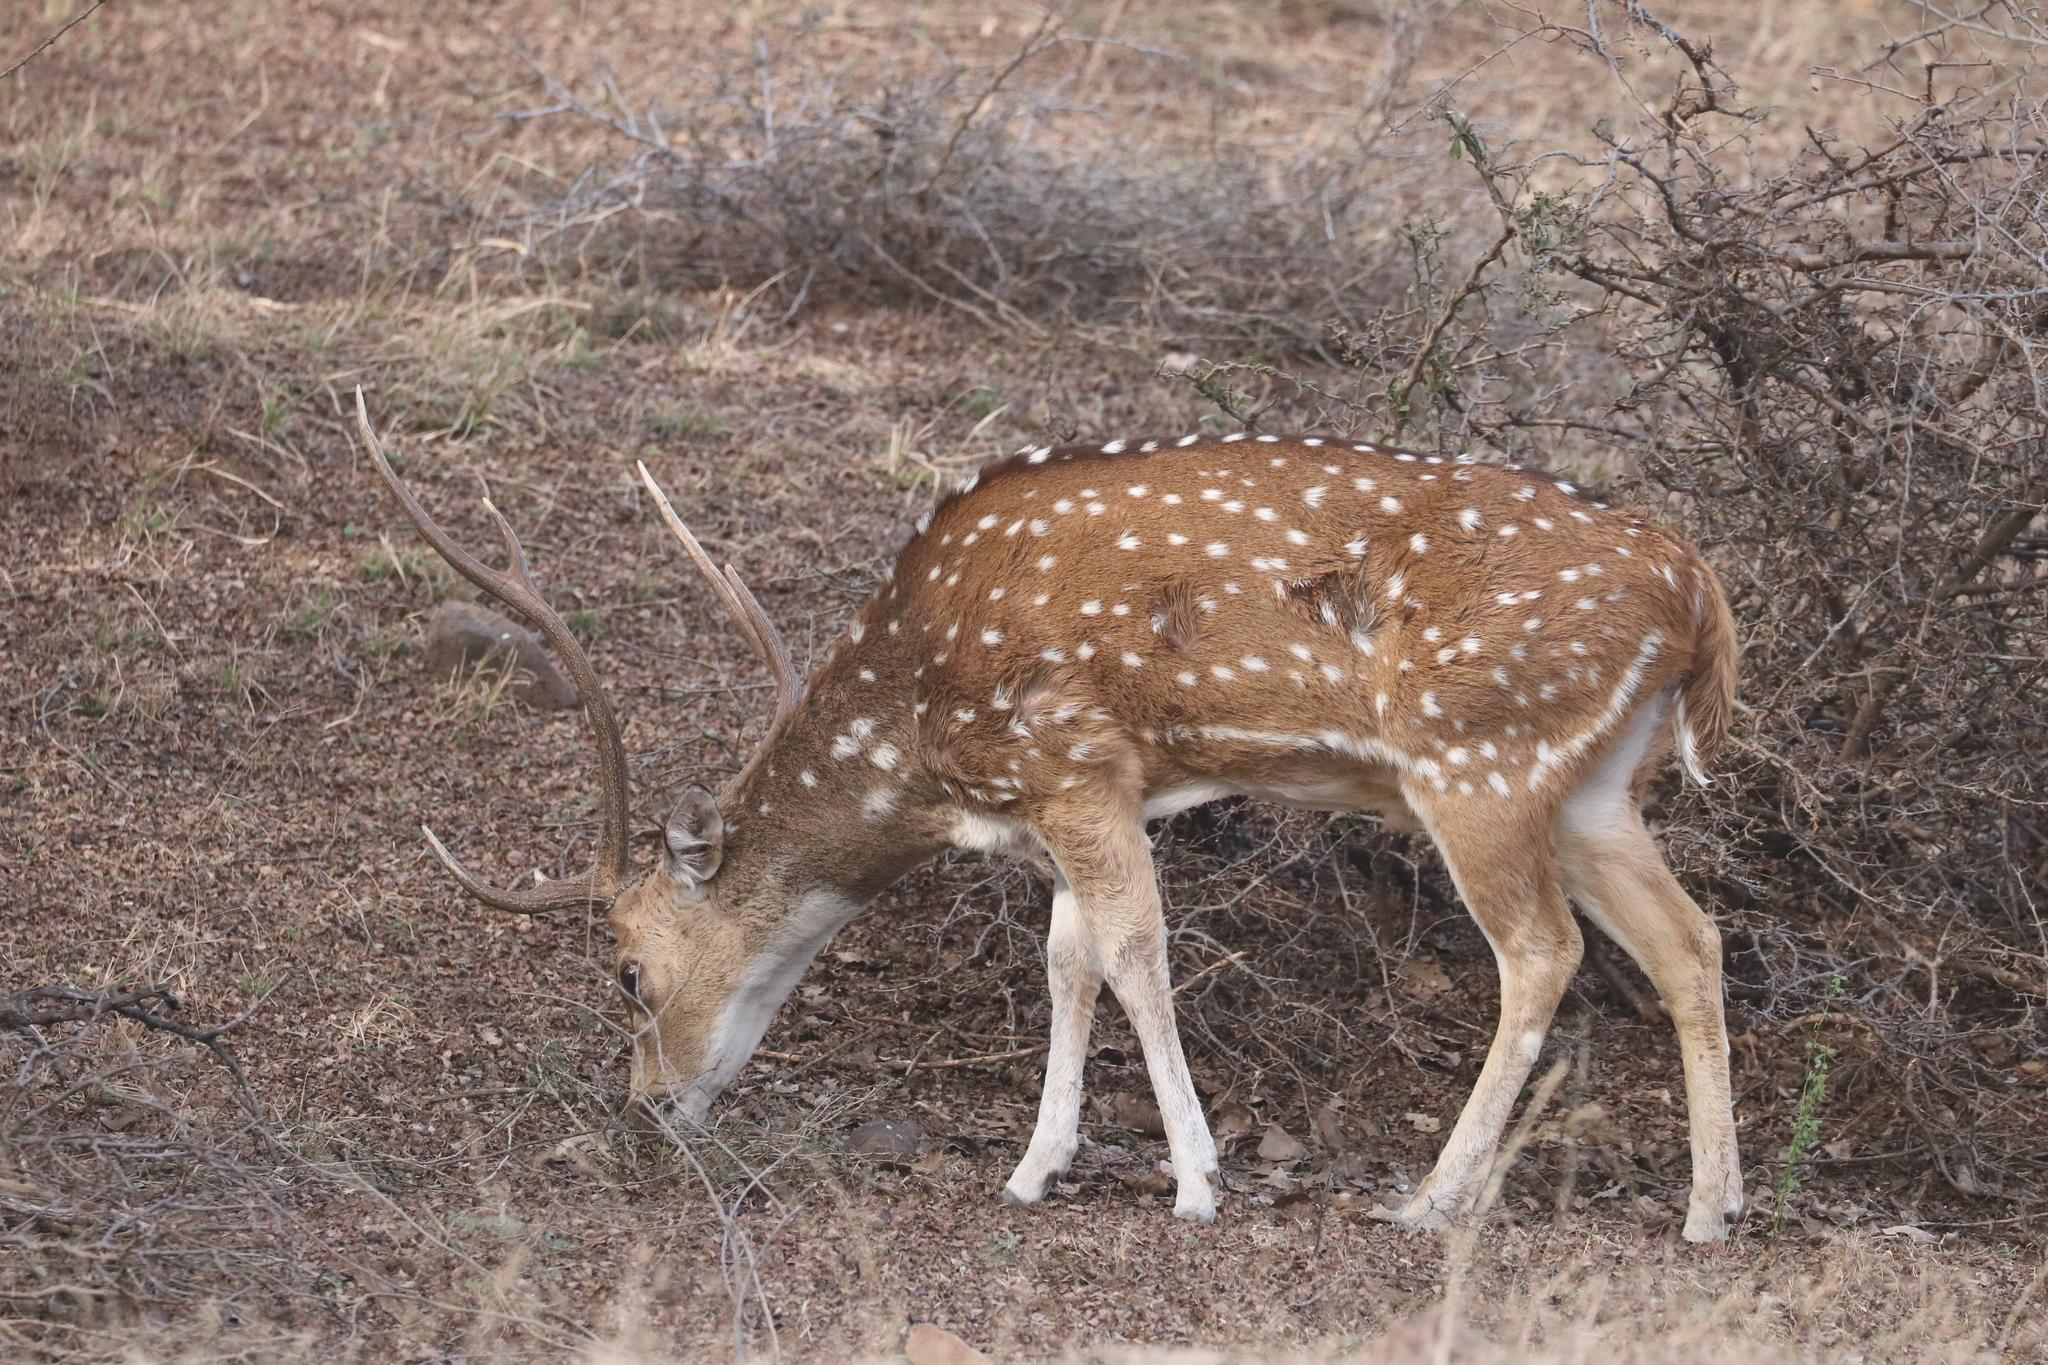Deer: (356, 398, 1742, 1240)
